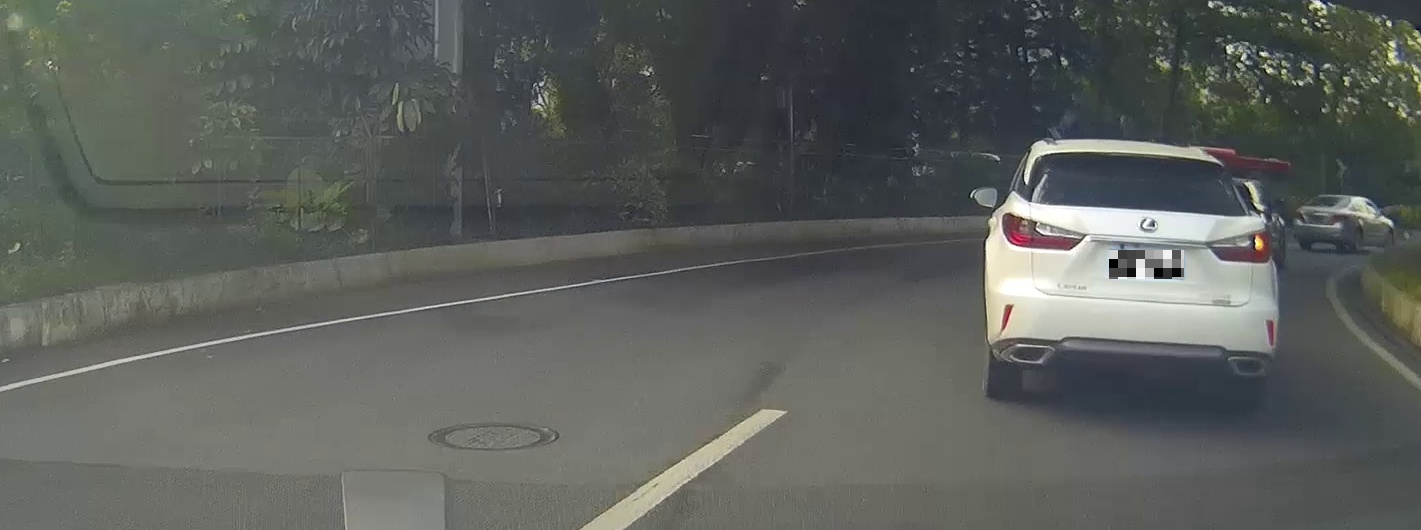L_light: (1001, 212, 1086, 250), (1294, 210, 1305, 222)
R_light: (1205, 228, 1270, 263), (1331, 214, 1347, 222)
T_light: (1120, 157, 1161, 165), (1319, 197, 1332, 199)
day-no: (1293, 195, 1350, 253)
day-right: (985, 143, 1277, 397)
plate_1: (1109, 250, 1184, 279)
